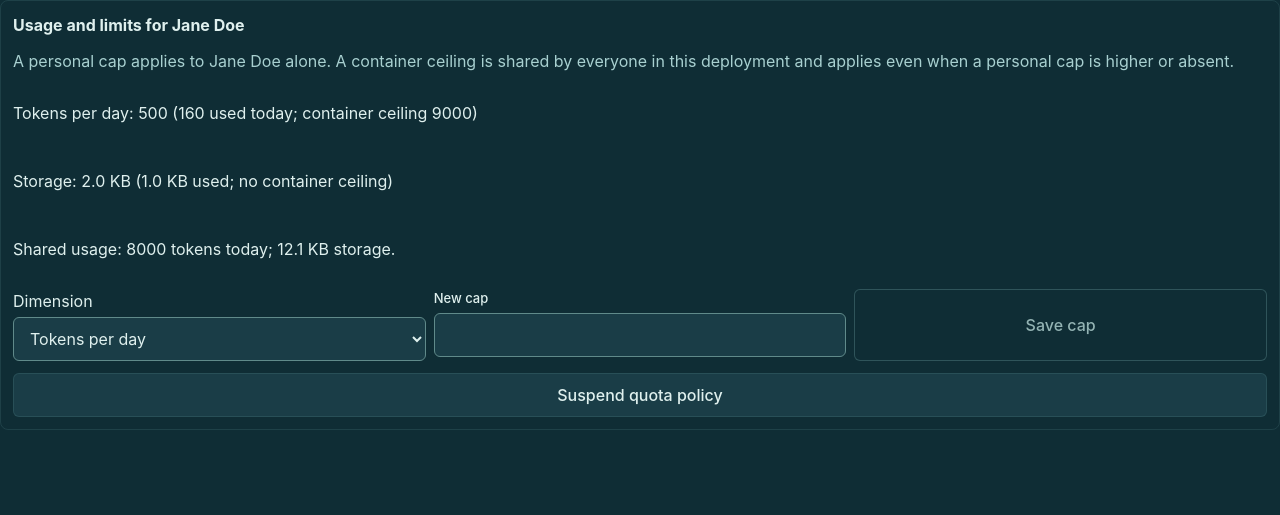
Test case: QuotaEditor › edits exactly one selected dimension and shows the refreshed result
The width and height of the screenshot is (1280, 515).
Expected: the text "Tokens per day: 500 (160 used today; container ceiling 9000)" is shown, [13, 103, 478, 123]
Select "Storage bytes" in the dropdown labelled "Dimension" at coordinates (219, 339), box [13, 317, 426, 361]
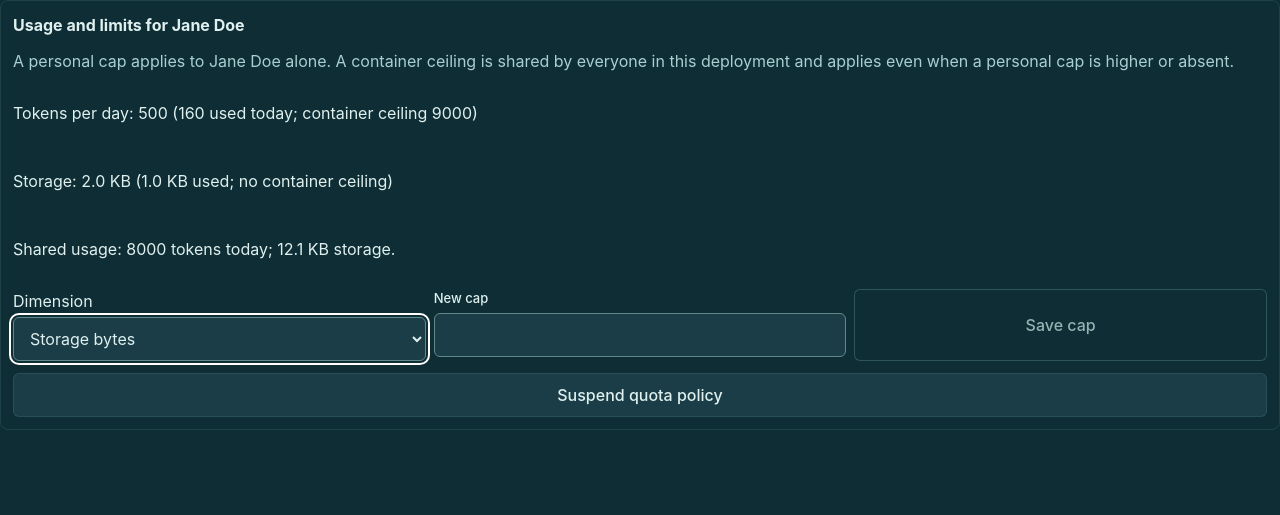
Type "3000" into the field labelled "New cap" at coordinates (640, 334), box [434, 312, 846, 356]
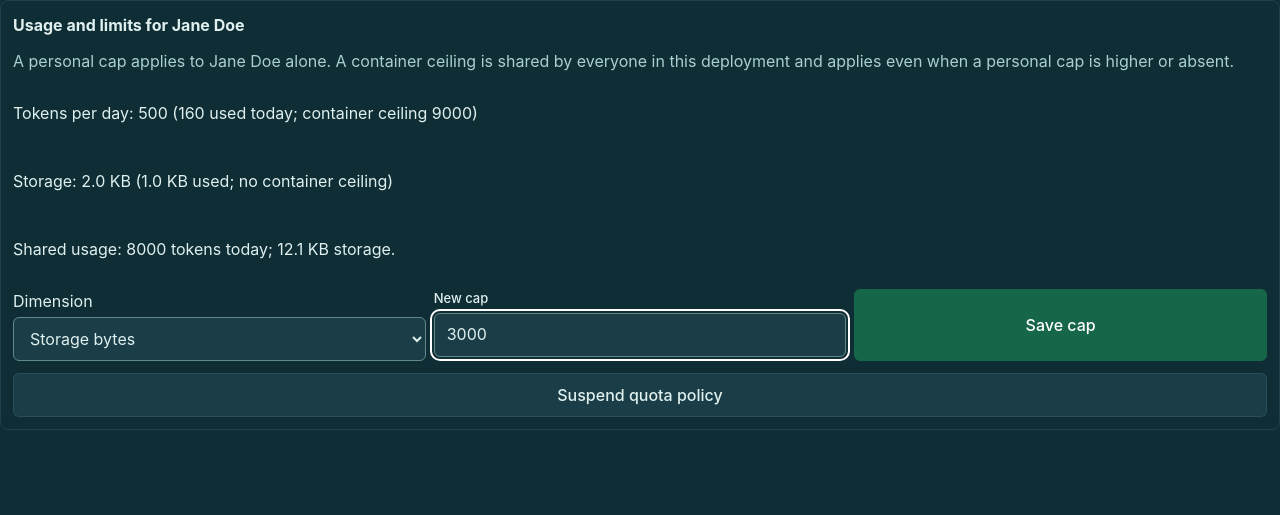
Click the button "Save cap" at coordinates (1061, 325), box [854, 289, 1267, 361]
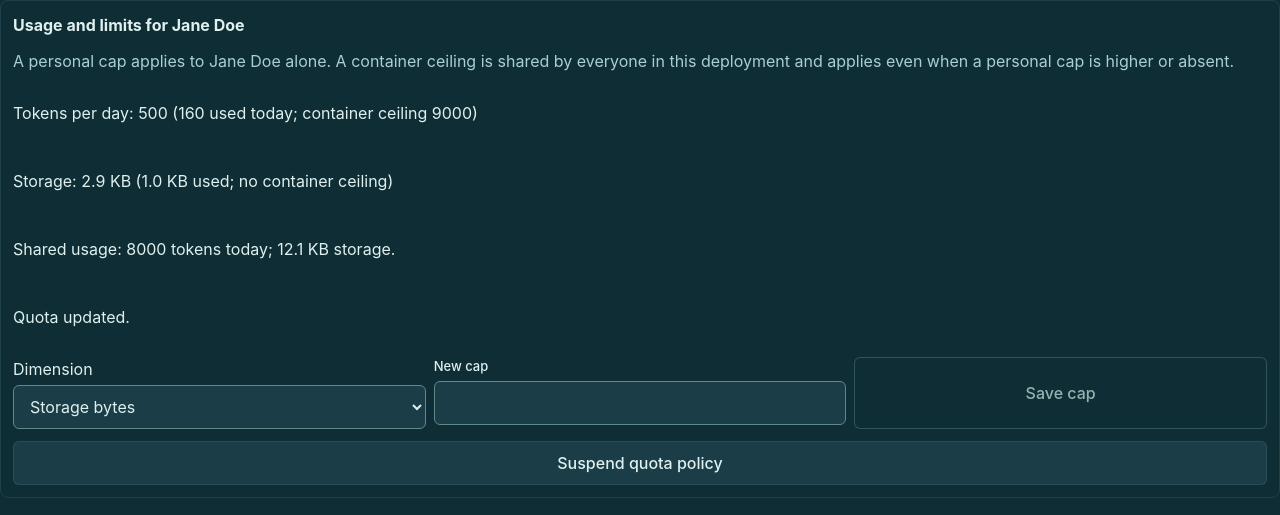
Now the text "Storage: 2.9 KB (1.0 KB used; no container ceiling)" is shown, box [13, 171, 393, 191]
